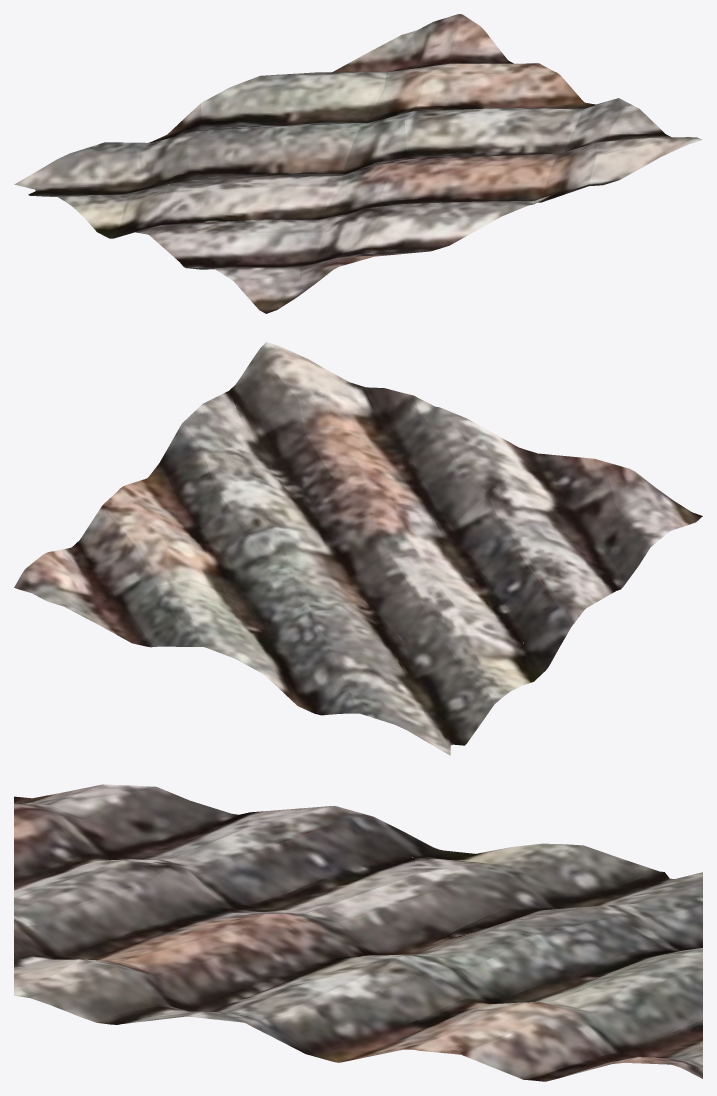
3 views of the same model, one above another, from view 1: azimuth 30°, elevation 25°; view 2: azimuth 150°, elevation 25°; view 3: azimuth 270°, elevation 25° (orthographic). The views are drawn at different scales.
Size of the model in its own units: 0.8373 by 0.2247 by 0.8374.
3 materials, 3 textured.
